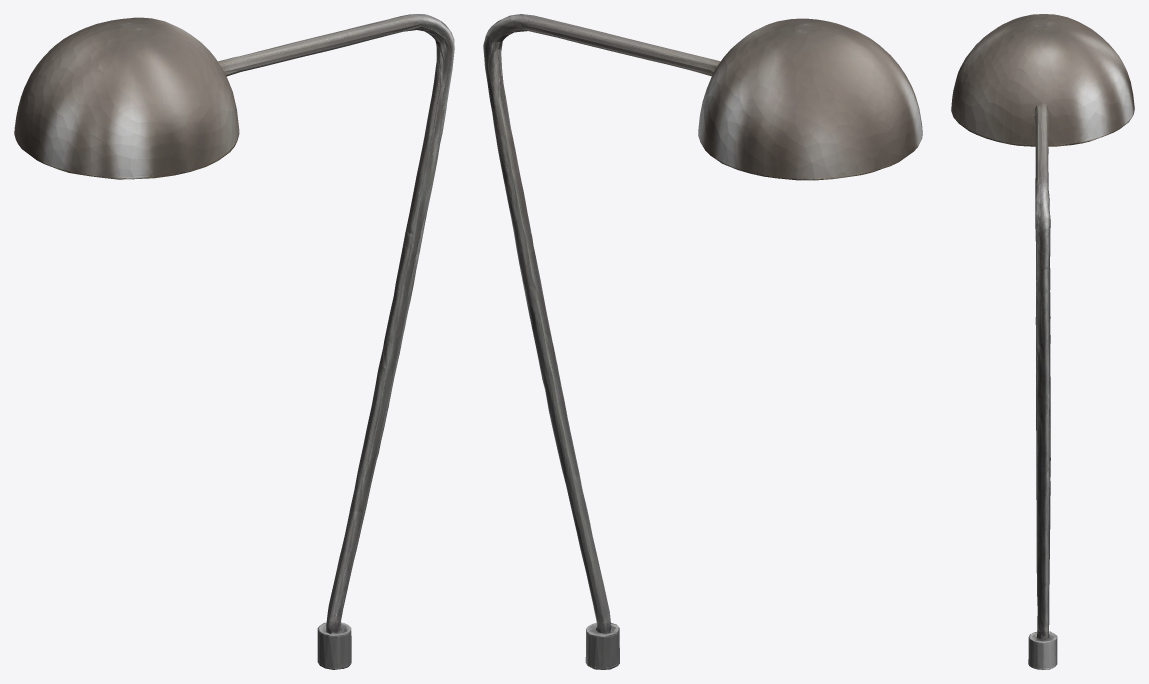
File: ast_d51bc4042307.glb
3 views of the same model, side by side, from view 1: azimuth 30°, elevation 25°; view 2: azimuth 150°, elevation 25°; view 3: azimuth 270°, elevation 25° (orthographic). The views are drawn at different scales.
Visible parts, largest first — view 1: geometry_0; view 2: geometry_0; view 3: geometry_0.
Part boxes in pixels (bbox=[...]): geometry_0: bbox=[14, 14, 454, 669]; geometry_0: bbox=[483, 14, 922, 669]; geometry_0: bbox=[951, 14, 1134, 669].
Size of the model in its own units: 0.6482 by 1 by 0.2979.
Materials: 1 (1 with a texture image).
